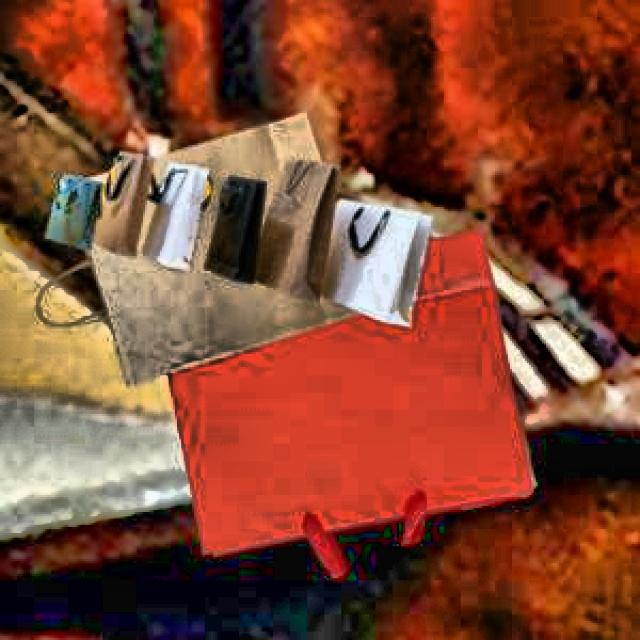Paper-bag: (121, 209, 557, 603), (48, 96, 443, 384)
